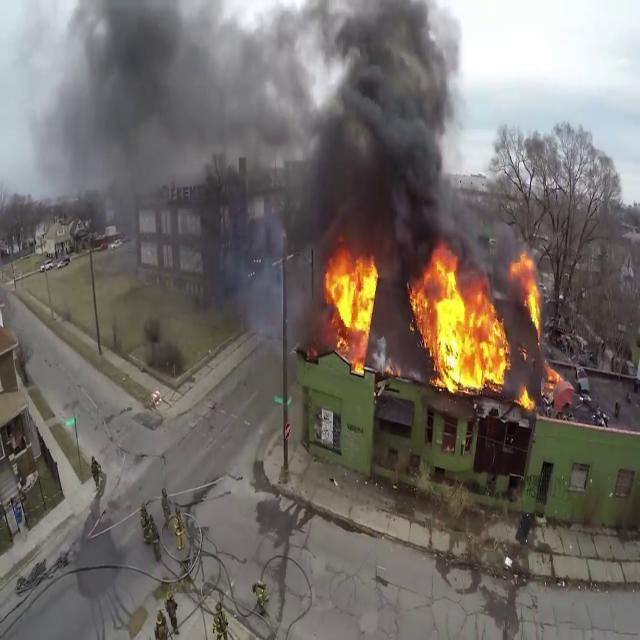Fire: (406, 248, 550, 399), (318, 248, 382, 367)
Smoke: (36, 0, 503, 262)
